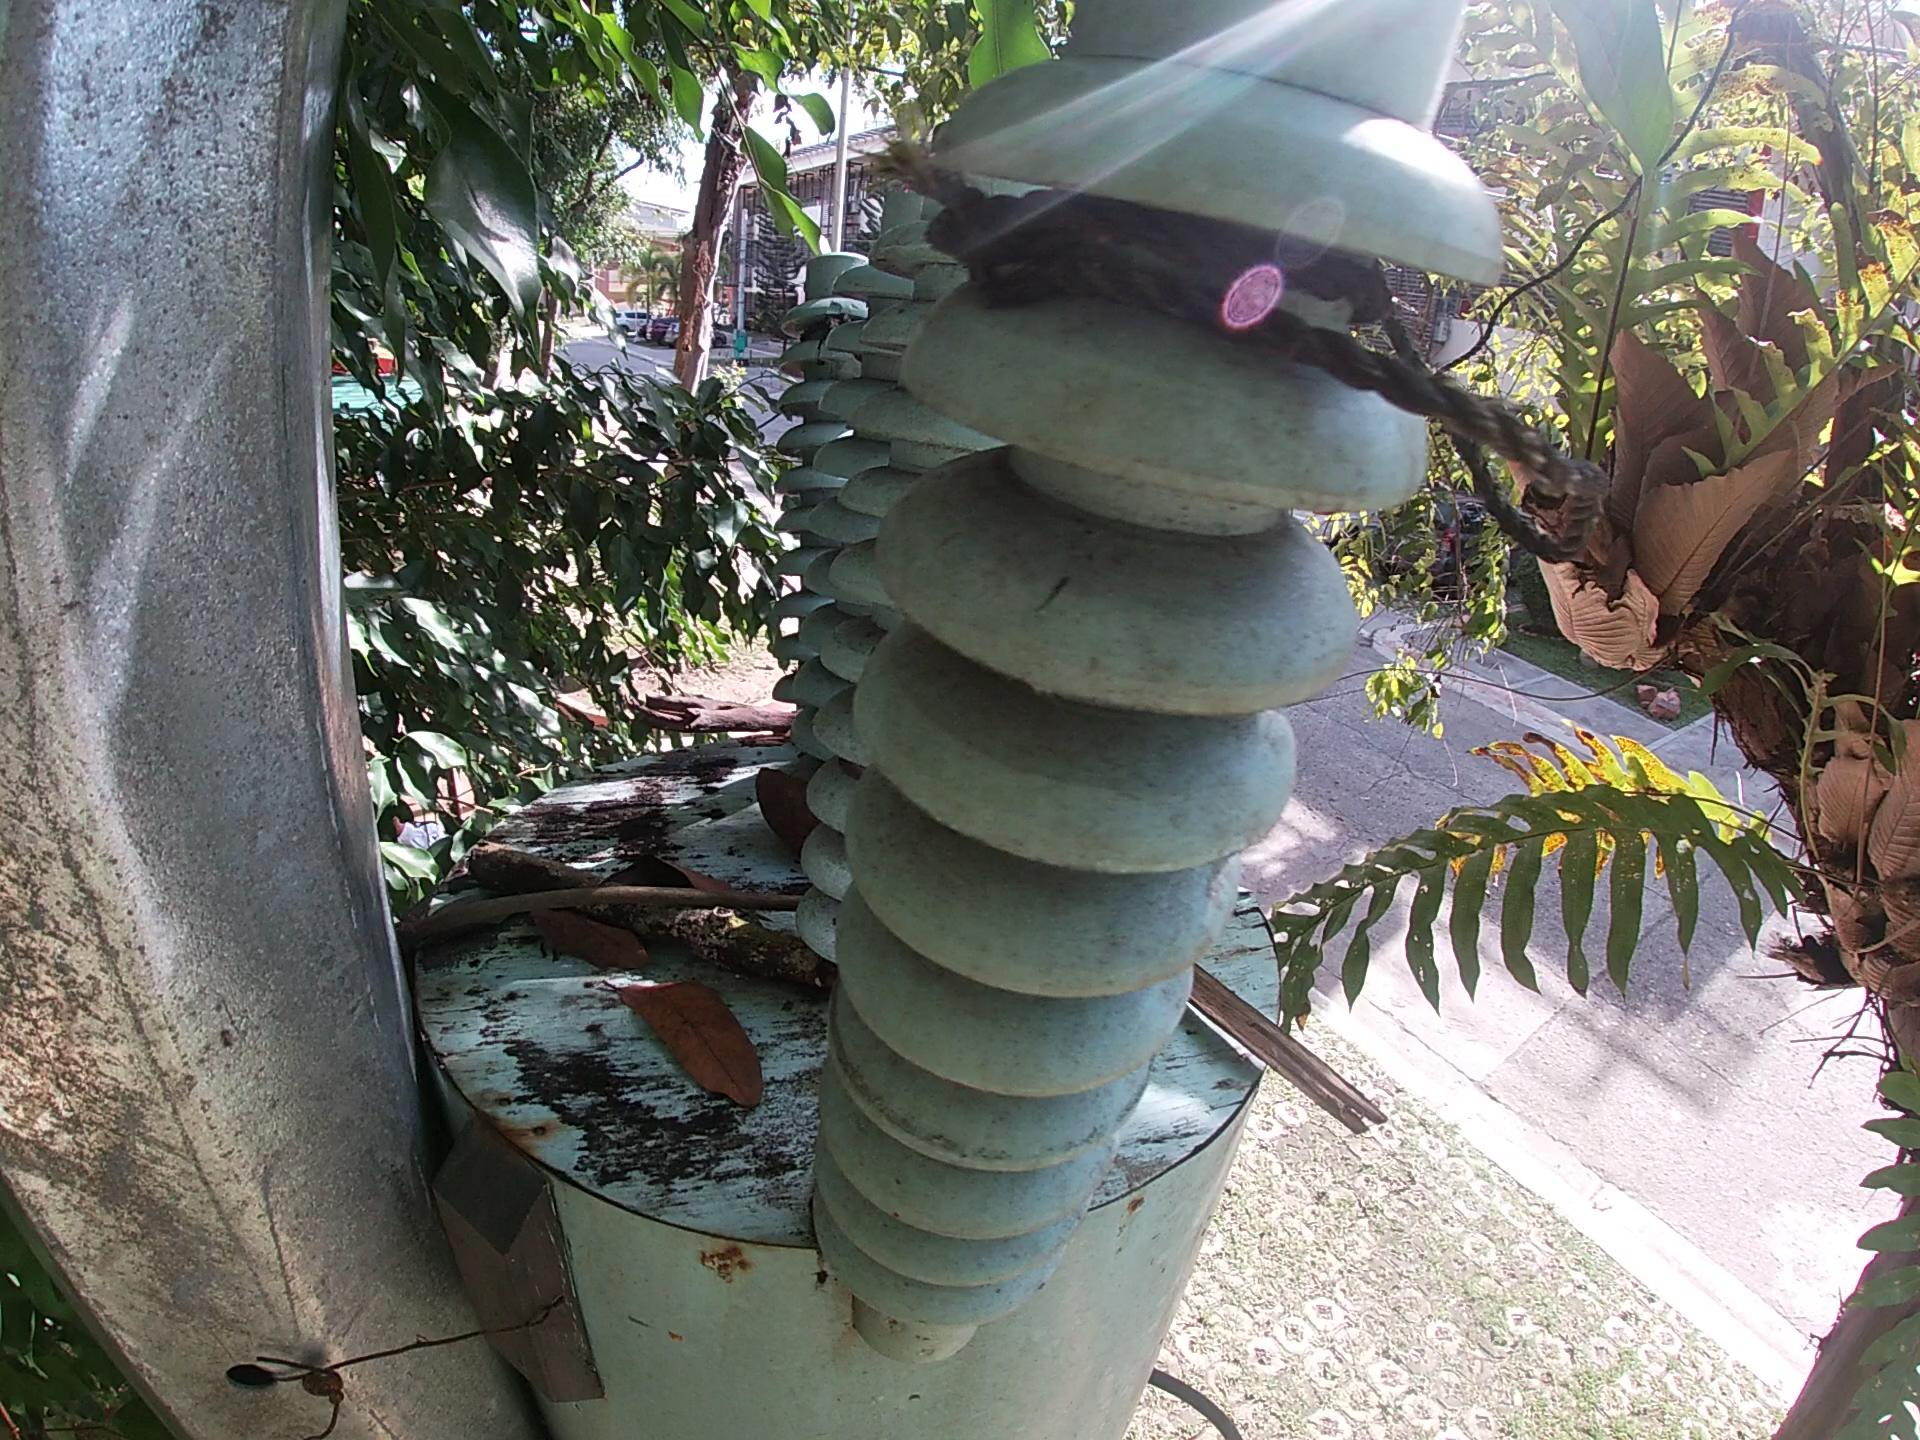leaf: (602, 968, 770, 1110), (522, 903, 658, 982), (599, 849, 721, 885)
mahogany fruit: (751, 765, 819, 865)
tree branch: (464, 839, 828, 998), (1187, 959, 1386, 1137), (392, 883, 813, 954), (626, 687, 800, 749)
